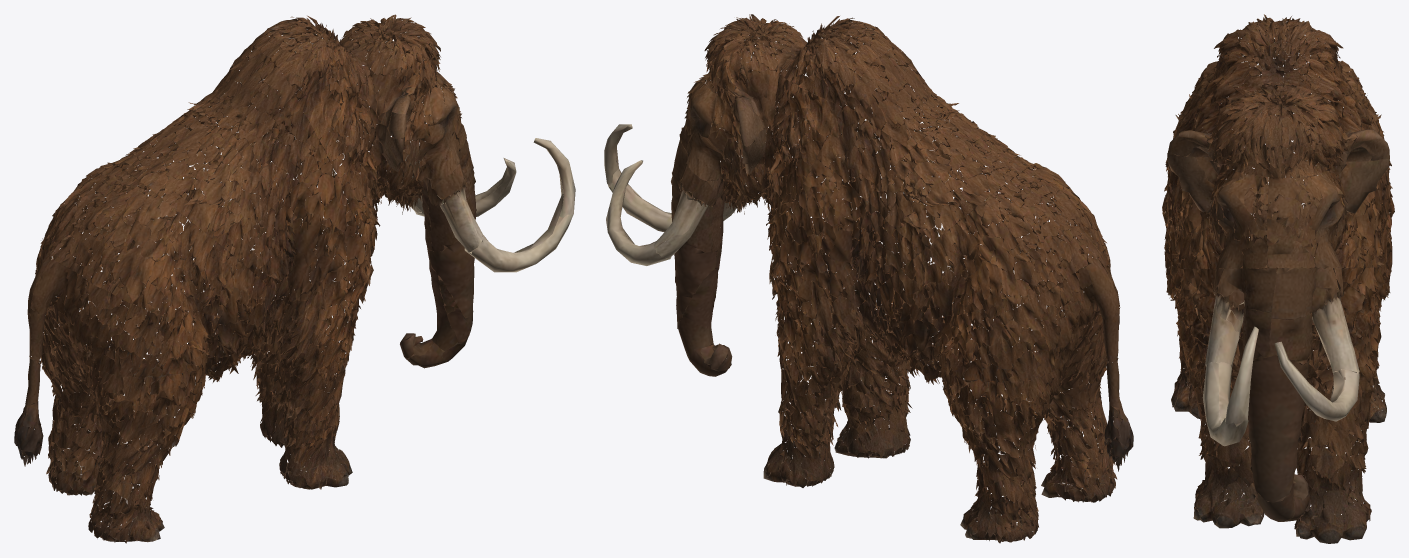
File: mammoth.glb
The picture shows the model from 3 angles, left to right: view 1: azimuth 30°, elevation 25°; view 2: azimuth 150°, elevation 25°; view 3: azimuth 270°, elevation 25°; orthographic projection. The views are drawn at different scales.
Parts seen in each view (by area): view 1: Mesh_0; view 2: Mesh_0; view 3: Mesh_0.
Part boxes in pixels (x1,y1,x2,y2): Mesh_0: (14, 14, 575, 543); Mesh_0: (604, 14, 1133, 543); Mesh_0: (1162, 14, 1394, 543).
Bounding box in the file's own units: 4.14 × 3.2 × 1.36.
Materials: 1 (1 with a texture image).
